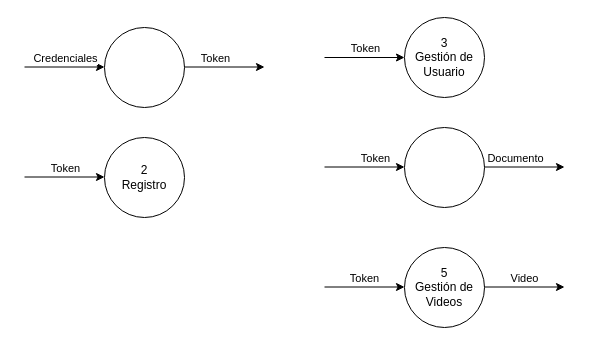
The diagram is 590 pixels wide and 345 high, and some of its shapes have lost their labels. The centre of each missing label's shape, as x and y in pixels:
"1 Inicio Sesion" belongs at [144,67].
"4 Gestion de Documentos" belongs at [444,167].
